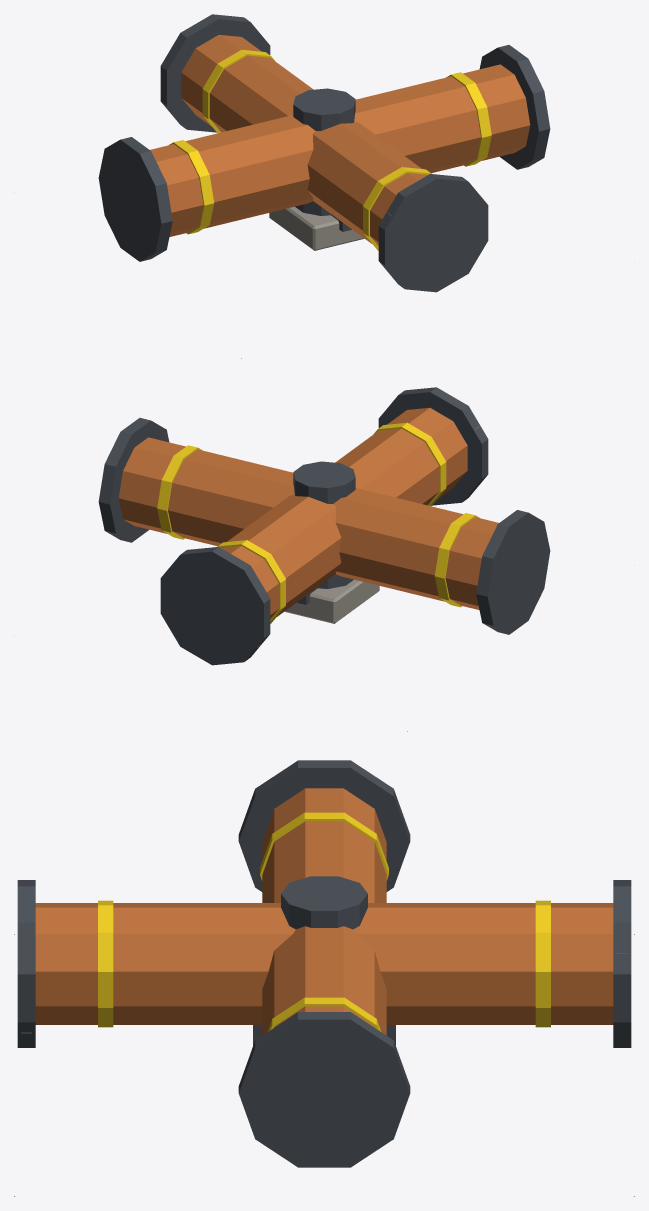
Rendered from tuyau_croix_t1.glb.
3 renders of one model, top to bottom at view 1: azimuth 30°, elevation 25°; view 2: azimuth 150°, elevation 25°; view 3: azimuth 270°, elevation 25°, orthographic. The views are drawn at different scales.
Parts seen in each view (by area): view 1: pieces_cuivre.016, pieces_acier_sombre.044, pieces_rive_t1.014, pieces_beton.044; view 2: pieces_cuivre.016, pieces_acier_sombre.044, pieces_rive_t1.014, pieces_beton.044; view 3: pieces_cuivre.016, pieces_acier_sombre.044, pieces_rive_t1.014.
Boxes of the visible parts, <box> form: pieces_cuivre.016: <box>150,34,530,245</box>; pieces_acier_sombre.044: <box>98,14,550,292</box>; pieces_rive_t1.014: <box>169,49,491,250</box>; pieces_beton.044: <box>269,206,364,250</box>; pieces_cuivre.016: <box>118,407,498,618</box>; pieces_acier_sombre.044: <box>98,387,550,665</box>; pieces_rive_t1.014: <box>157,422,479,623</box>; pieces_beton.044: <box>284,579,379,623</box>; pieces_cuivre.016: <box>35,788,613,1035</box>; pieces_acier_sombre.044: <box>17,760,631,1167</box>; pieces_rive_t1.014: <box>98,812,550,1031</box>.
Size of the model in its own units: 1 by 0.318 by 1.
